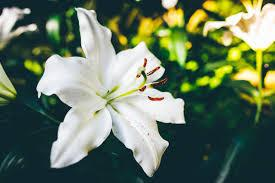lily: (33, 8, 186, 176)
